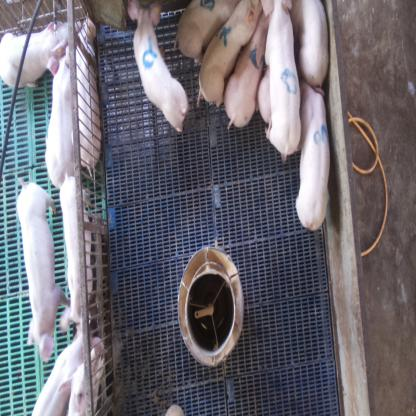2: (141, 34, 158, 72)
3: (313, 124, 331, 152)
5: (249, 45, 265, 77)
7: (216, 21, 232, 50)
N-A: (282, 68, 298, 94)
